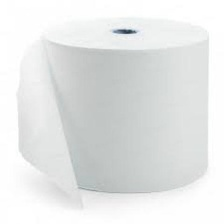tissue: (11, 12, 213, 214)
